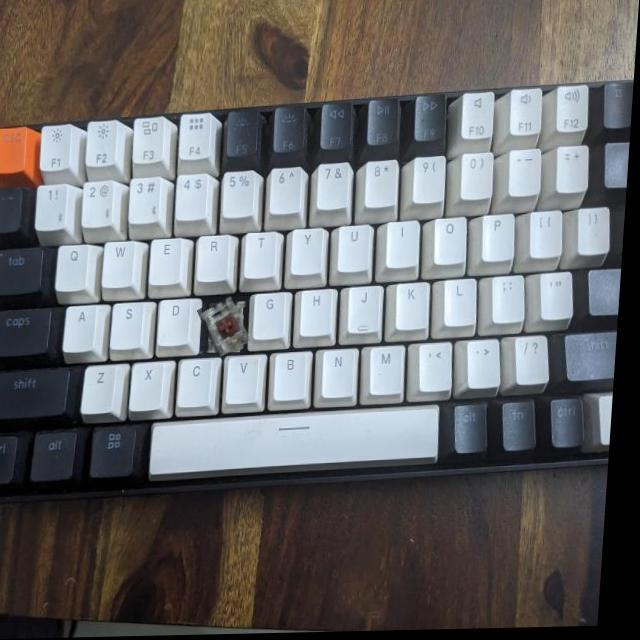key-switch: (204, 297, 253, 357)
